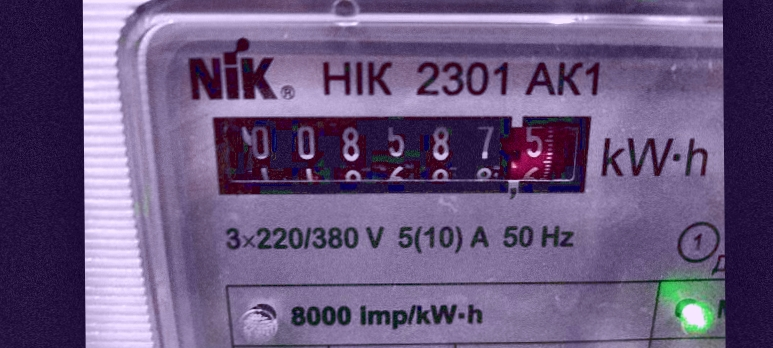0: (293, 121, 317, 161)
1: (247, 121, 271, 162)
5: (522, 120, 546, 160), (384, 121, 407, 159)
7: (473, 121, 496, 162)
8: (337, 122, 362, 163), (429, 121, 450, 163)
screen: (192, 93, 610, 216)
